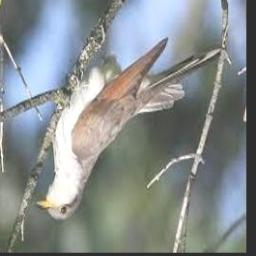Cuckoo: (36, 37, 185, 220)
